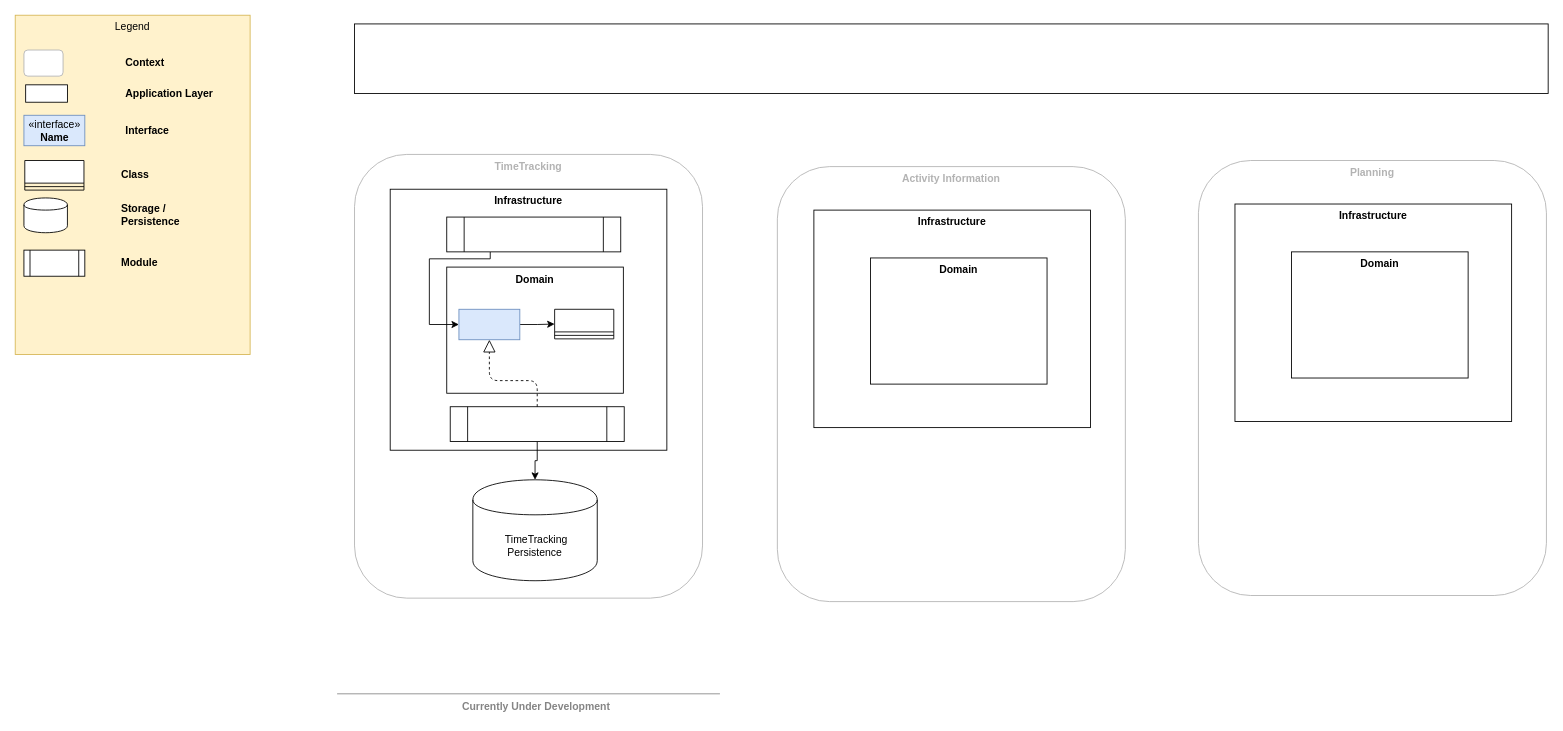
Image size: 1563x731. Some labels were removed from this diagram. The shapes that lost their labels are listed below. From the top down, each one's centre as x and y in pixels, then its label:
the point at 951,58: User Interface
the point at 54,175: Classname
the point at 533,234: WebService
the point at 489,324: «interface» Repostory
the point at 584,323: Model
the point at 536,424: Persistence
